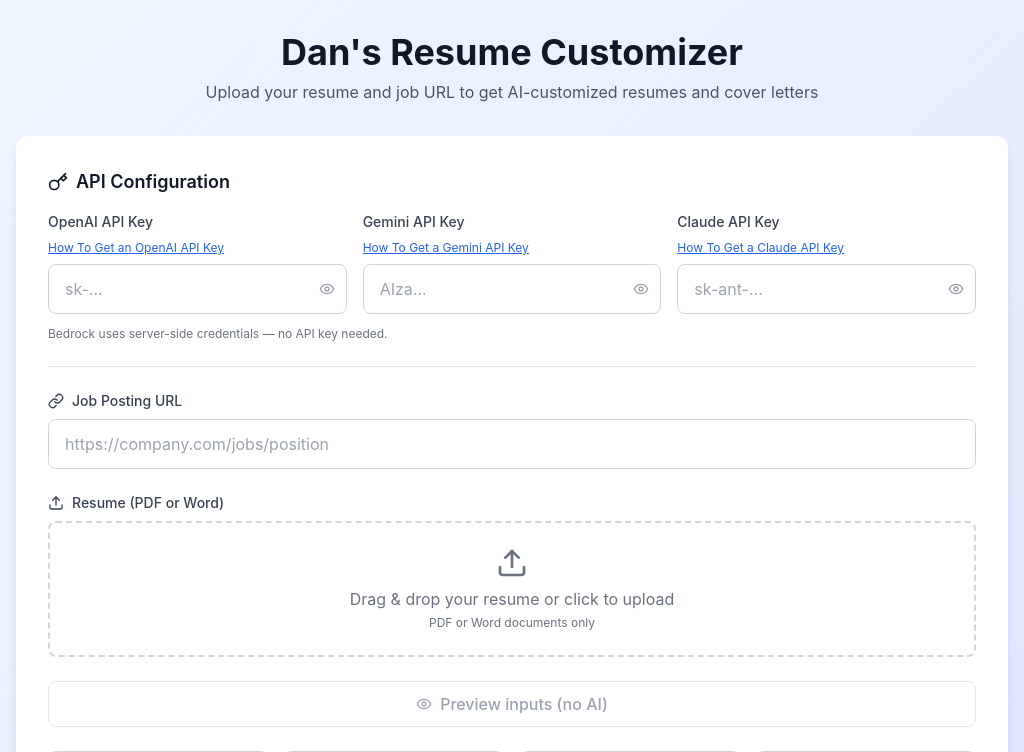
Scenario: validates key format in the UI
The width and height of the screenshot is (1024, 752).
Type "sk-looks-good" into the password field named "OpenAI API Key" at (197, 289), box [48, 264, 347, 314]
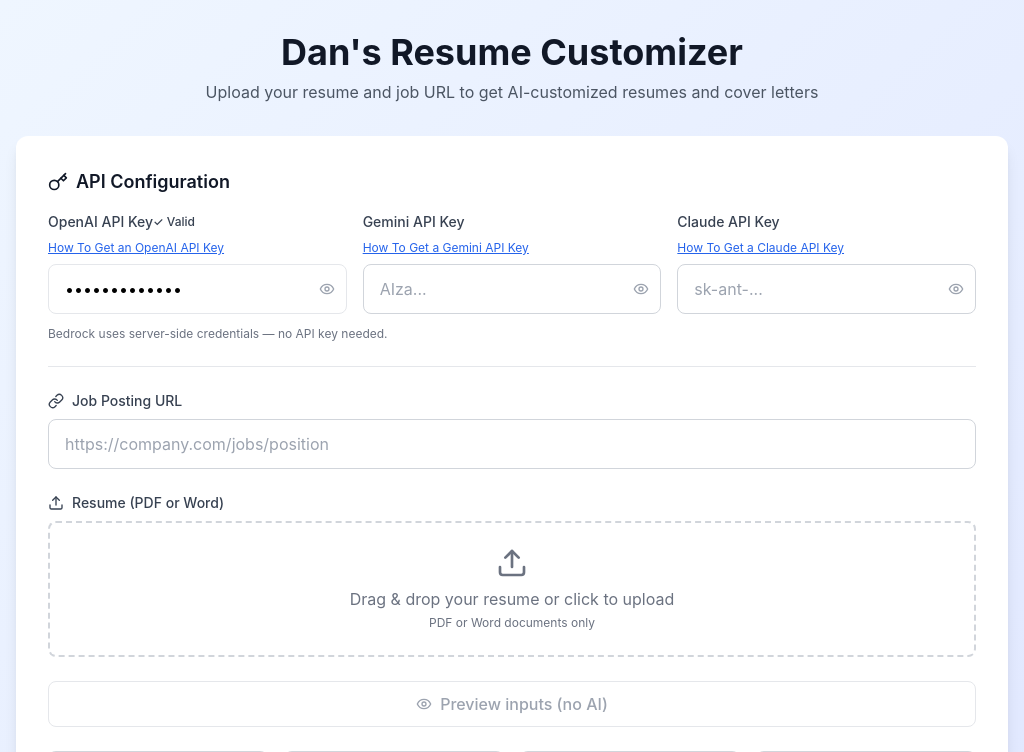
Result: the text "✓ Valid" is shown at [153, 214, 195, 230]
Type "not-a-key" into the password field named "OpenAI API Key" at (197, 289), box [48, 264, 347, 314]
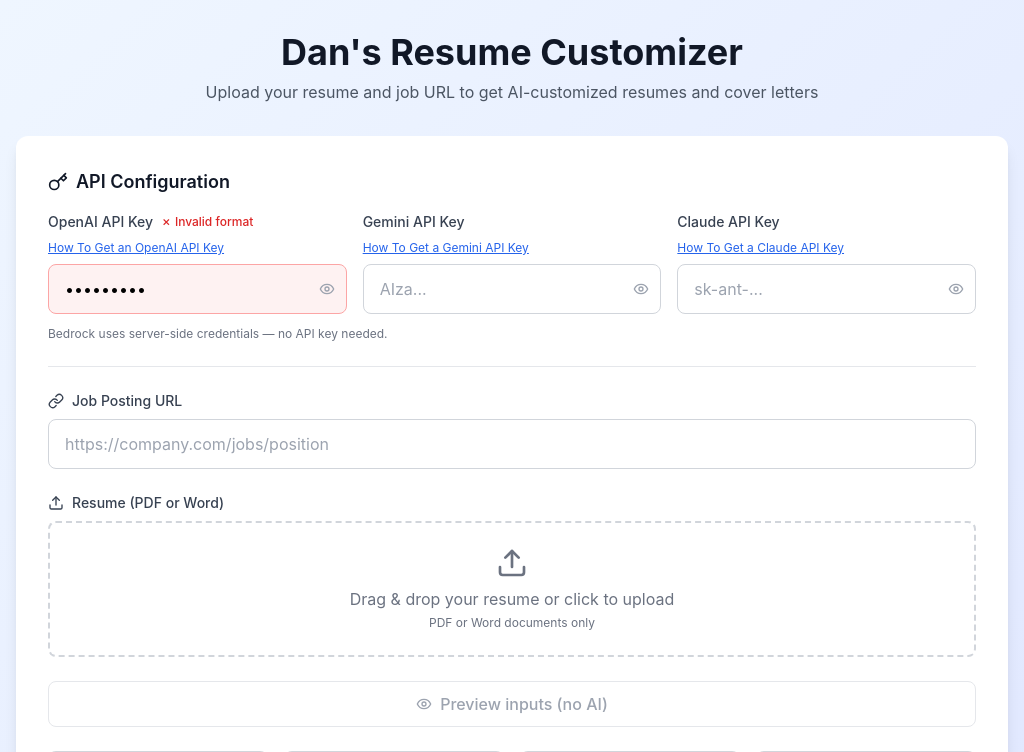
Result: the text "✗ Invalid format" is shown at [161, 214, 253, 230]
